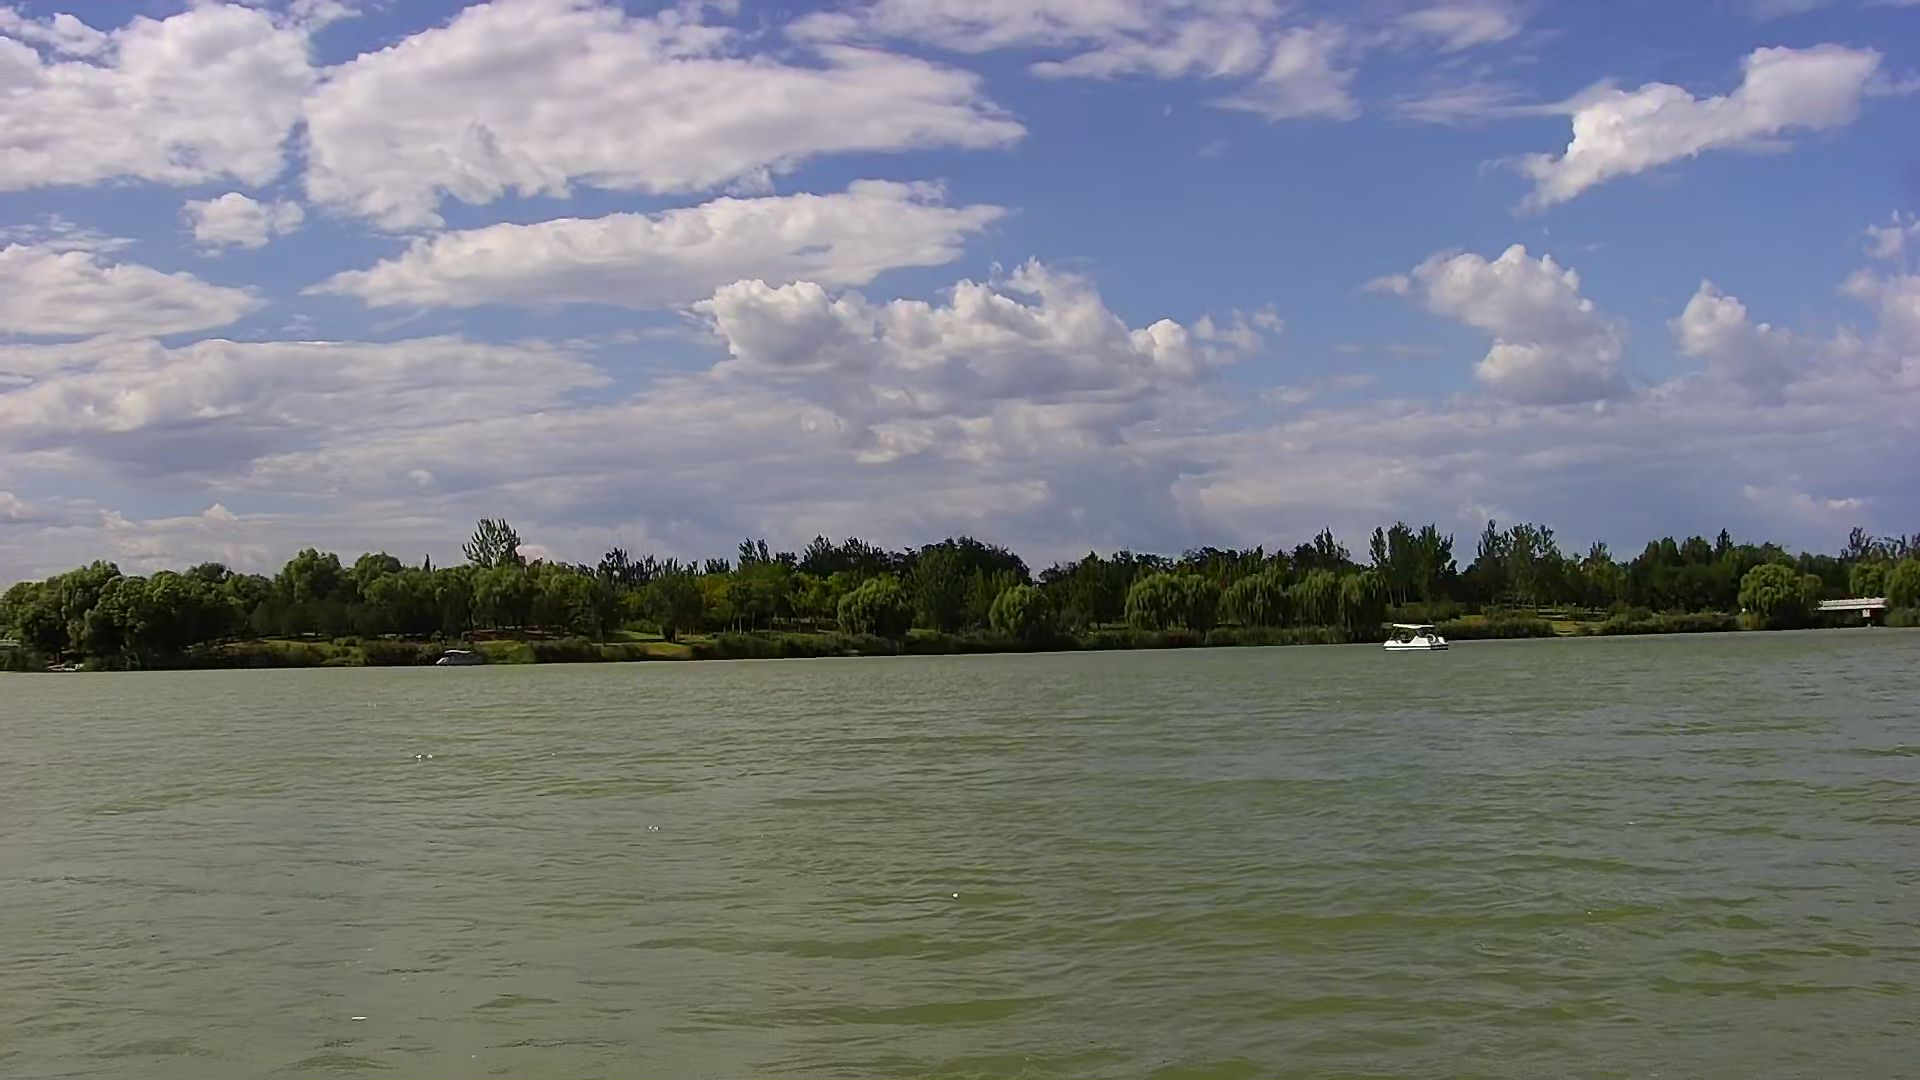boat: (1382, 615, 1455, 655), (426, 640, 496, 669)
